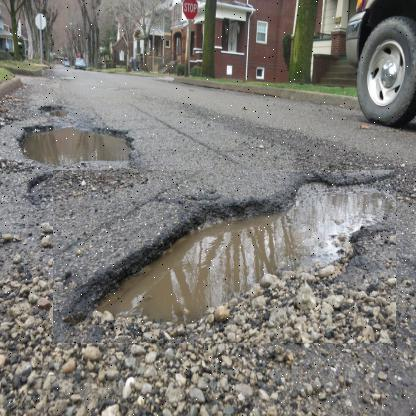pothole: (54, 170, 398, 344)
pothole_water: (17, 92, 152, 190)
